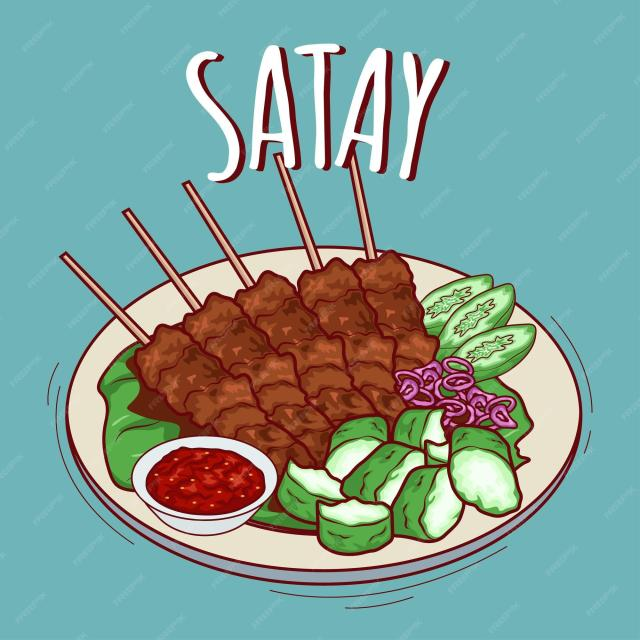Sate: (86, 184, 476, 437)
